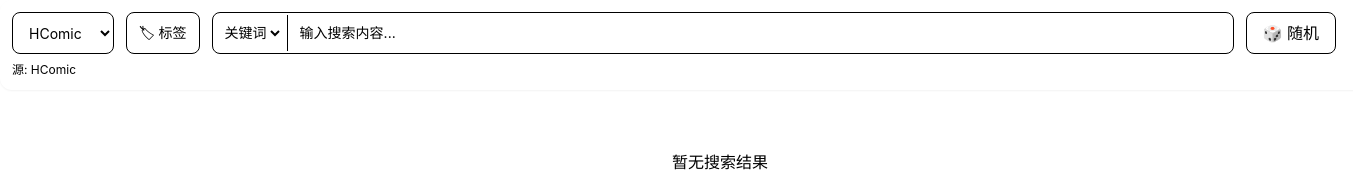
SearchPage › source switching › shows login prompt when switching to jm with auth error
Expected: the field with placeholder "输入搜索内容..." is shown, [288, 15, 1232, 51]
Select "JM" in the 1st dropdown showing "HComic" at (63, 33), box [12, 12, 114, 54]
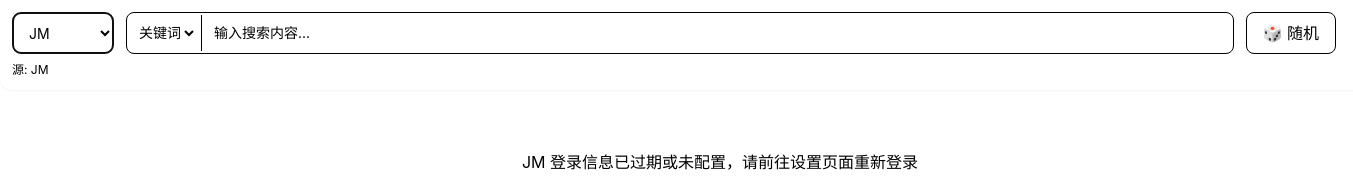
Now the text "JM 登录信息已过期或未配置，请前往设置页面重新登录" is shown, box [522, 152, 918, 172]
